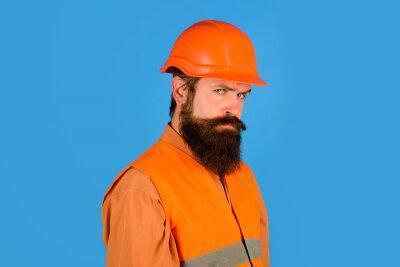helmet: (159, 20, 267, 88)
